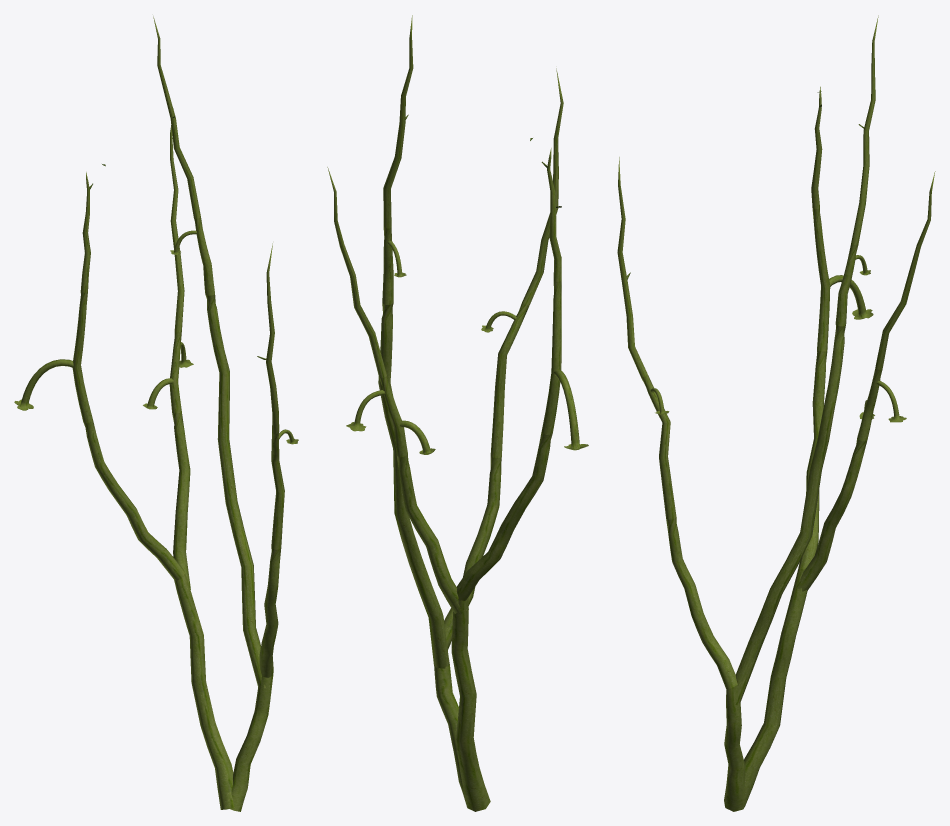
File: VG07_8_stem.dae
3 renders of one model, left to right at view 1: azimuth 30°, elevation 25°; view 2: azimuth 150°, elevation 25°; view 3: azimuth 270°, elevation 25°, orthographic. The views are drawn at different scales.
Visible parts, largest first — view 1: VG07_017; view 2: VG07_017; view 3: VG07_017.
Boxes of the visible parts, <box> form: VG07_017: <box>14,16,298,811</box>; VG07_017: <box>327,15,588,811</box>; VG07_017: <box>617,15,935,811</box>.
Bounding box in the file's own units: 8.73 × 11.56 × 31.62.
